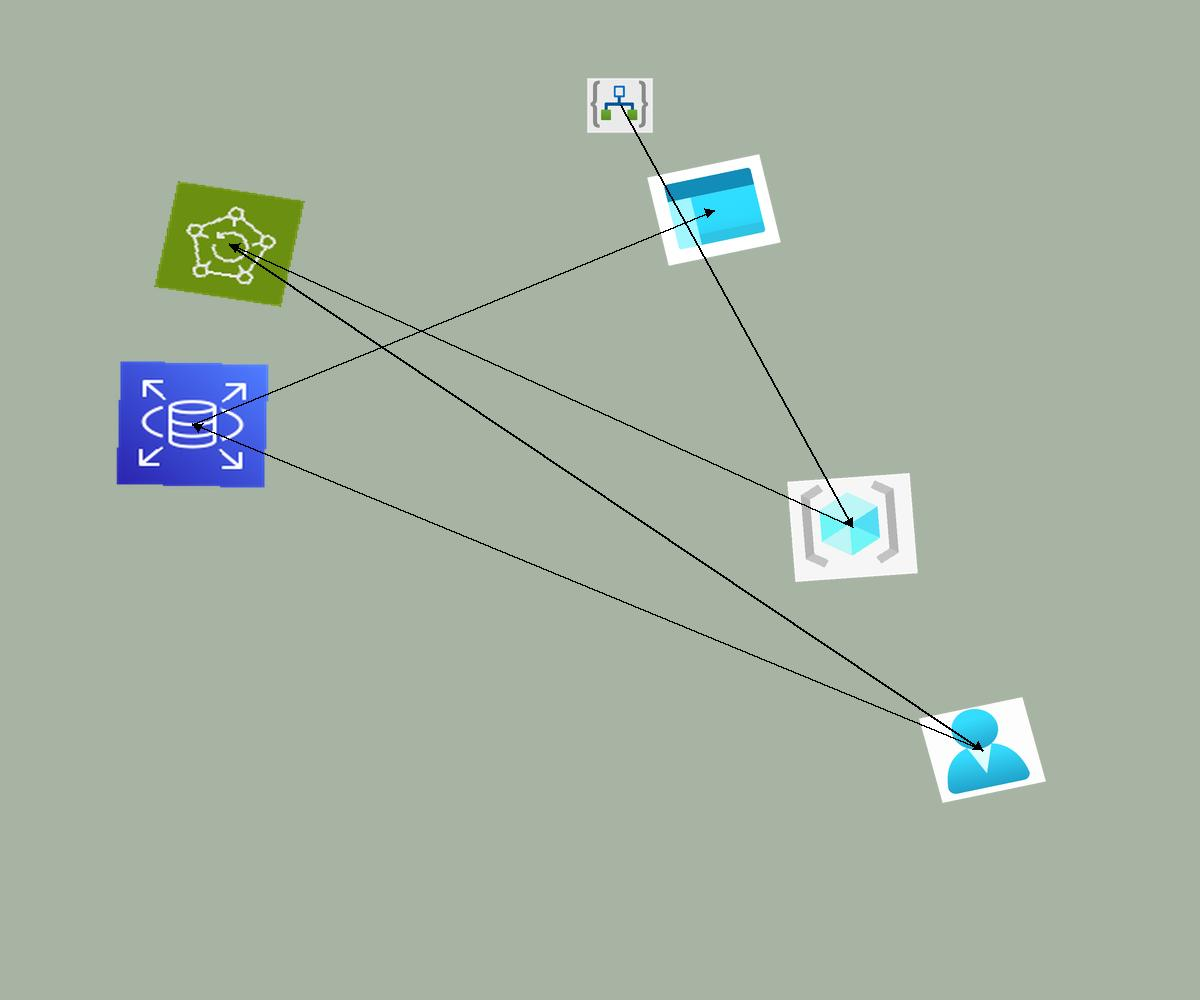AWS-Backup: (154, 181, 305, 307)
AWS-RDS: (115, 360, 270, 489)
Azure_integration-204-Logic-Apps: (587, 78, 653, 133)
Azure_management-portal: (647, 154, 781, 266)
Azure_resource_group: (787, 473, 918, 582)
Azure_users: (919, 697, 1046, 803)
